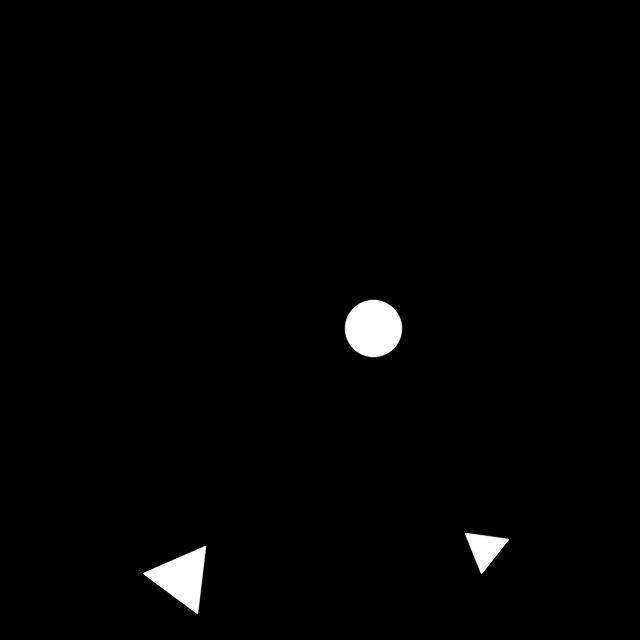Circle: (336, 291, 411, 366)
Triangle: (136, 529, 224, 621), (457, 523, 514, 590)
